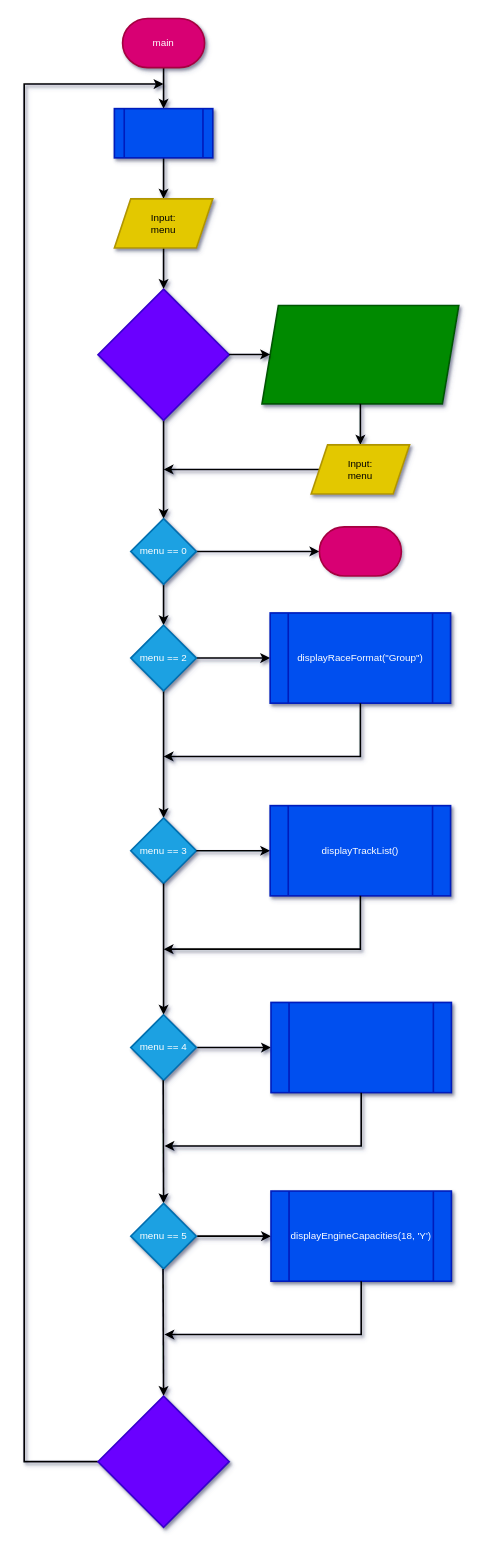
The diagram is 483 pixels wide and 1552 high, and some of its shapes have lost their labels. Here are the shapes that lost their labels. From the top down, the centre of each, then its label:
[164,134]: displayMenu()
[164,355]: cin.fail() || (menu < 0 || menu >5)
[360,355]: Prompt: "Please enter a valid option (0 - 5): "
[360,551]: stop
[361,1048]: displayRacingGear()
[164,1462]: menu != 1
